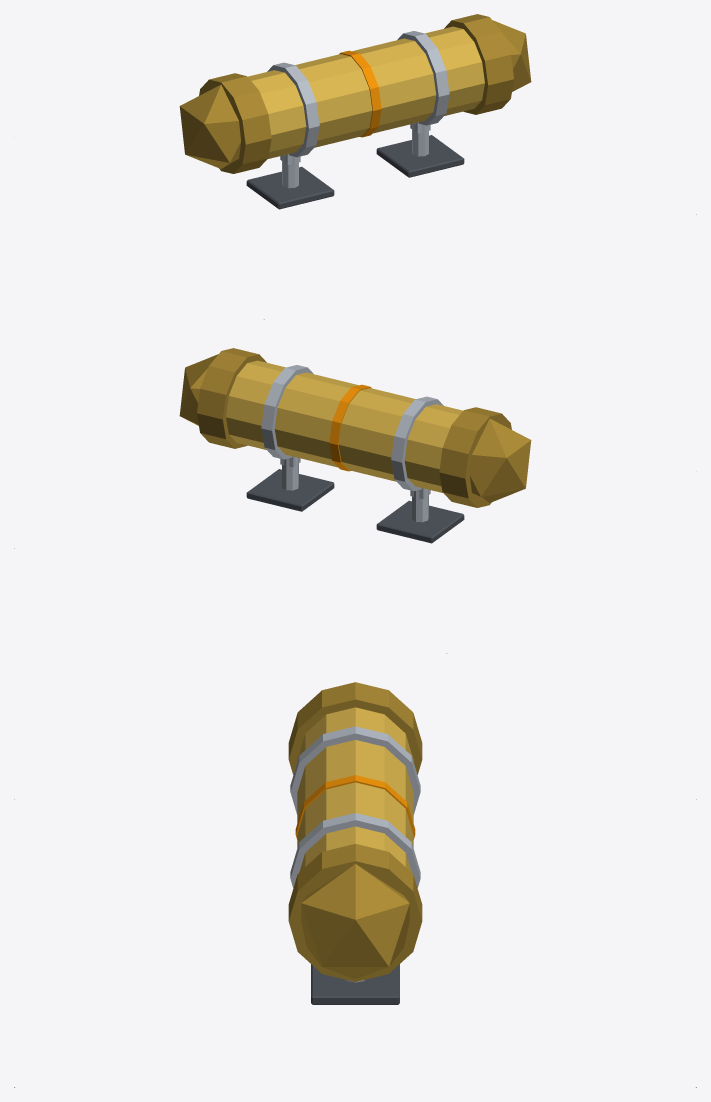
File: tuyau_seul_t2.glb
3 renders of one model, top to bottom at view 1: azimuth 30°, elevation 25°; view 2: azimuth 150°, elevation 25°; view 3: azimuth 270°, elevation 25°, orthographic. The views are drawn at different scales.
Visible parts, largest first — view 1: pieces_laiton.014, pieces_laiton_sombre.014, pieces_gris_clair.014, pieces_acier_sombre.050, pieces_rive_t2.016; view 2: pieces_laiton.014, pieces_laiton_sombre.014, pieces_gris_clair.014, pieces_acier_sombre.050, pieces_rive_t2.016; view 3: pieces_laiton_sombre.014, pieces_laiton.014, pieces_gris_clair.014, pieces_acier_sombre.050, pieces_rive_t2.016.
Boxes of the visible parts, left/top/right/bottom form: pieces_laiton.014: left=248, top=26, right=484, bottom=159; pieces_laiton_sombre.014: left=179, top=14, right=531, bottom=173; pieces_gris_clair.014: left=267, top=31, right=449, bottom=188; pieces_acier_sombre.050: left=246, top=135, right=464, bottom=209; pieces_rive_t2.016: left=339, top=50, right=381, bottom=137; pieces_laiton.014: left=226, top=360, right=462, bottom=493; pieces_laiton_sombre.014: left=179, top=348, right=531, bottom=507; pieces_gris_clair.014: left=261, top=365, right=443, bottom=522; pieces_acier_sombre.050: left=246, top=469, right=464, bottom=543; pieces_rive_t2.016: left=329, top=384, right=371, bottom=471; pieces_laiton_sombre.014: left=288, top=682, right=422, bottom=981; pieces_laiton.014: left=297, top=707, right=413, bottom=871; pieces_gris_clair.014: left=290, top=726, right=420, bottom=982; pieces_acier_sombre.050: left=311, top=964, right=399, bottom=1004; pieces_rive_t2.016: left=295, top=775, right=415, bottom=839.
Size of the model in its own units: 1 by 0.2778 by 1.
